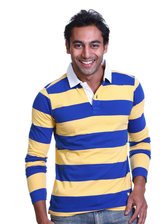clothoes: (24, 62, 157, 215)
